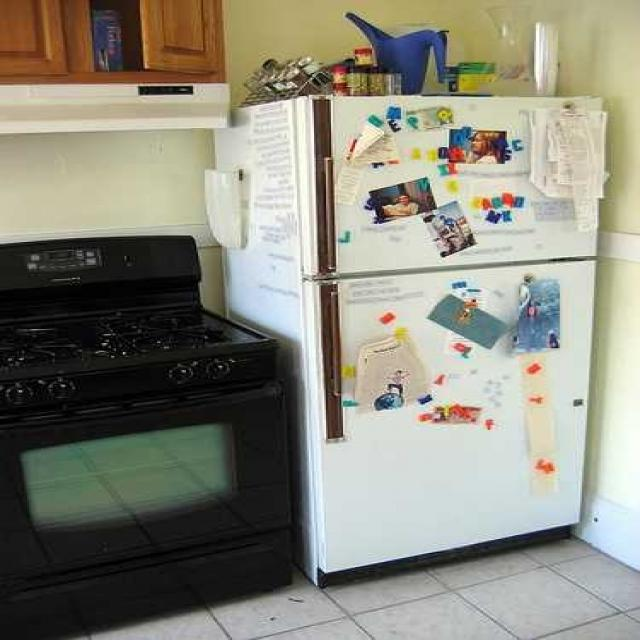refrigerator: (298, 93, 609, 586)
